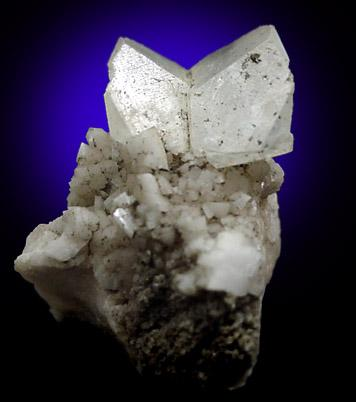calcite: (15, 26, 294, 330)
